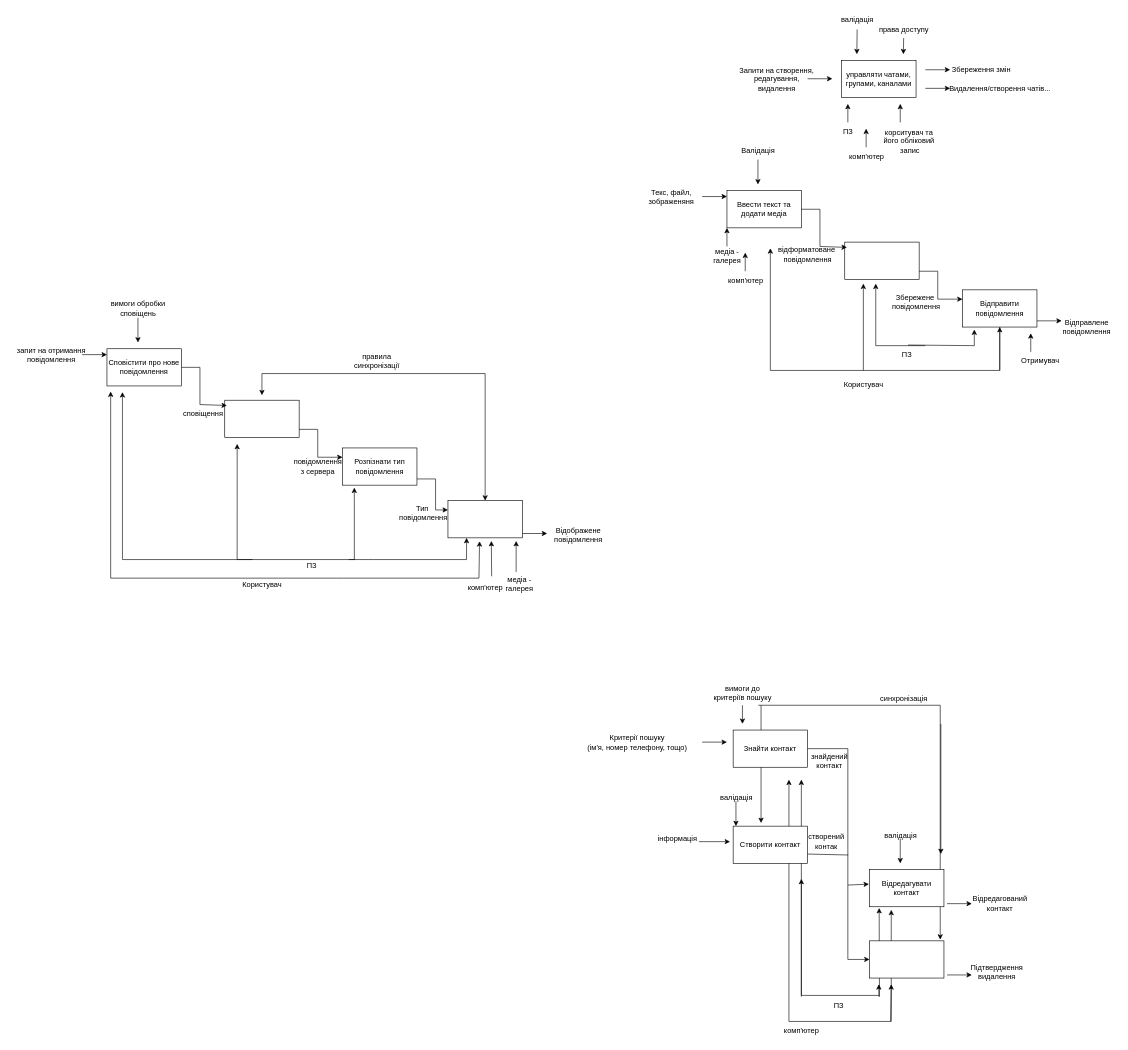
The diagram is 1128 pixels wide and 1050 high, and some of its shapes have lost their labels. Here are the shapes that lost their labels. From the top down, the box of each, then its label:
(844, 241, 919, 279): Зберегти повідомлення
(224, 400, 299, 437): Отримати повідомлення з сервера
(447, 500, 522, 538): Відобразити повідомлення
(869, 940, 944, 978): Видалити контакт
